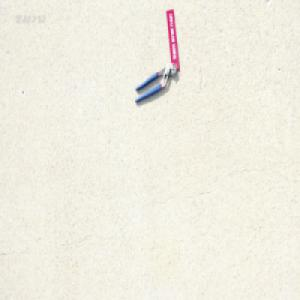Label: (166, 8, 180, 73)
Pliers: (134, 63, 176, 105)
